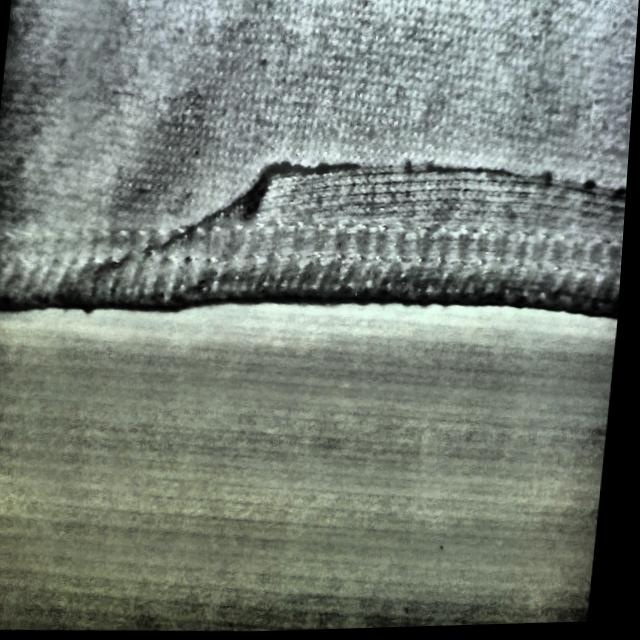seam: (196, 96, 630, 341)
